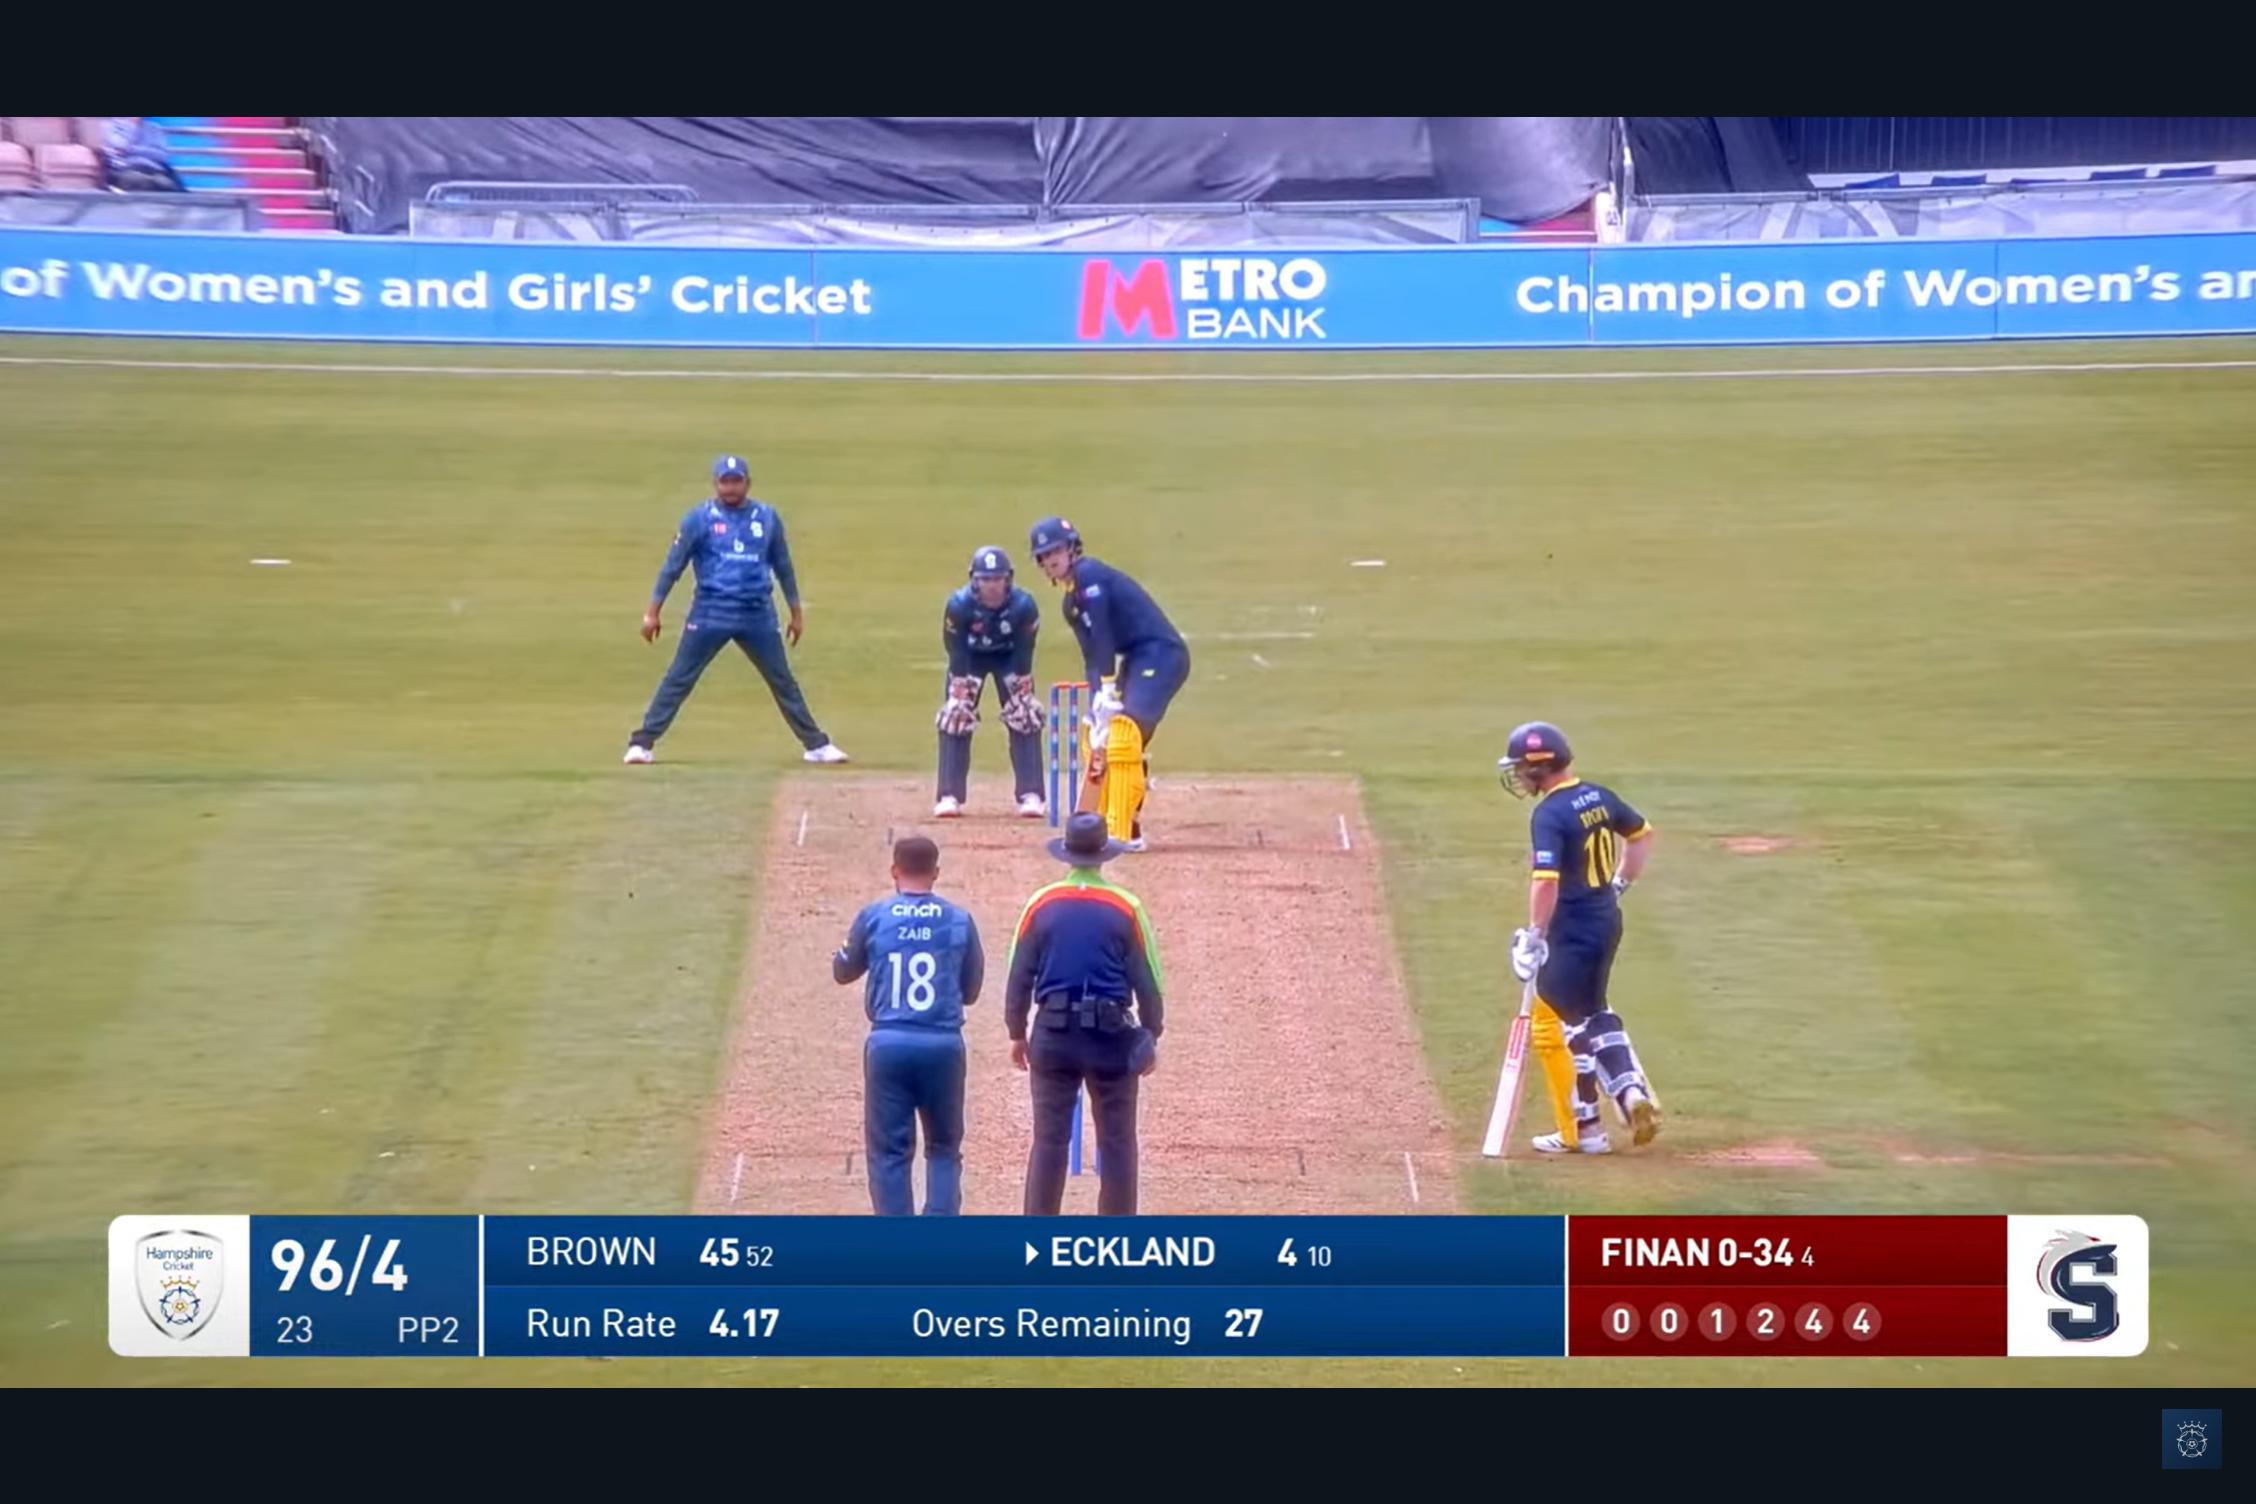bowler running in: (812, 851, 999, 1225)
non striker: (1440, 703, 1702, 1182)
umpire: (1021, 807, 1188, 1198)
wicket keeper: (898, 539, 1063, 834)
